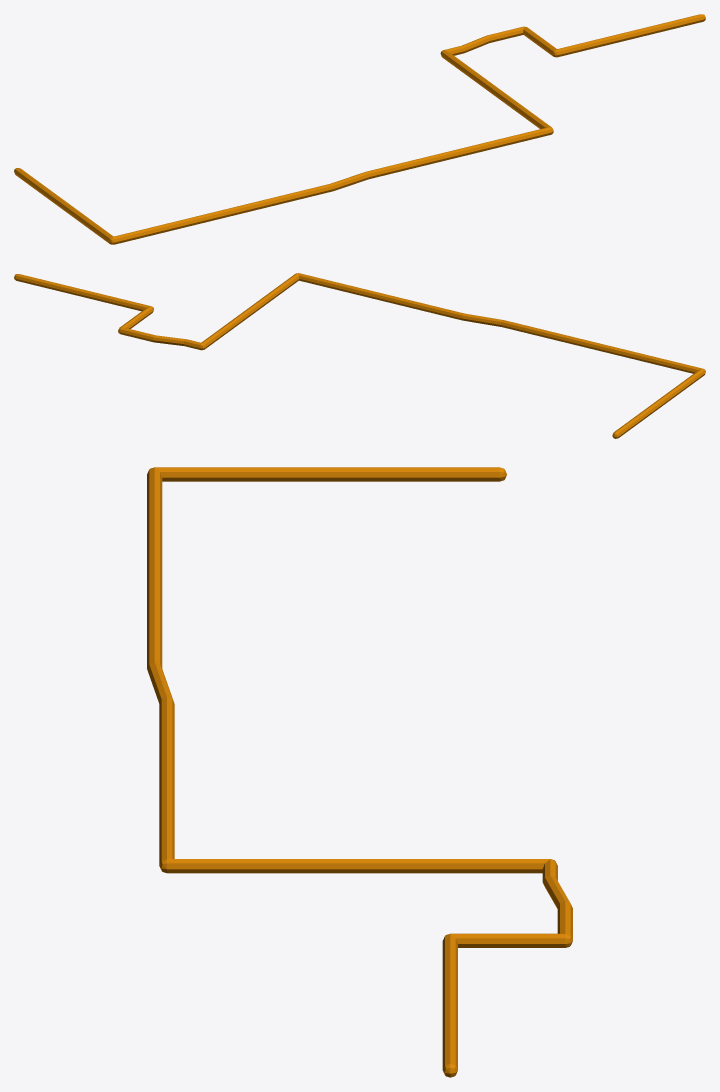
3 views of the same model, one above another, from view 1: azimuth 30°, elevation 25°; view 2: azimuth 150°, elevation 25°; view 3: azimuth 270°, elevation 25° (orthographic). The views are drawn at different scales.
Bounding box in the file's own units: 1860 × 20 × 556.
